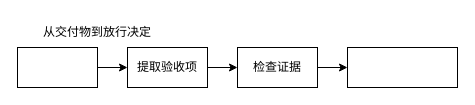
This 475x105 diagram has some shape labels left out. The centre of each missing label's shape, as x and y in pixels:
"交付物" belongs at [57,67].
"放行/退回/拒绝" belongs at [402,67].
